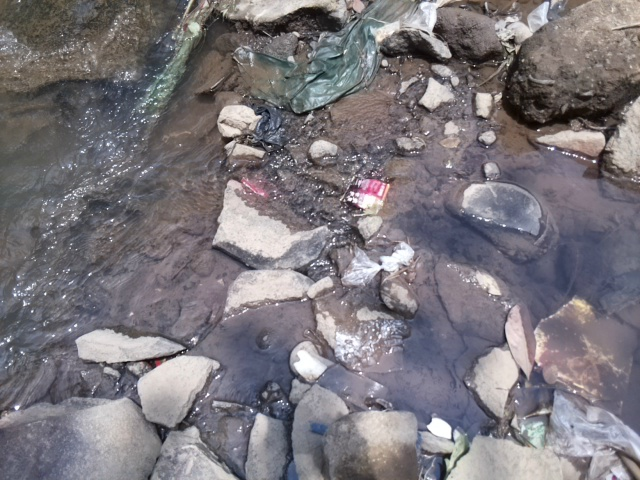Sampah_Plastik: (545, 387, 640, 477), (341, 174, 391, 215)
